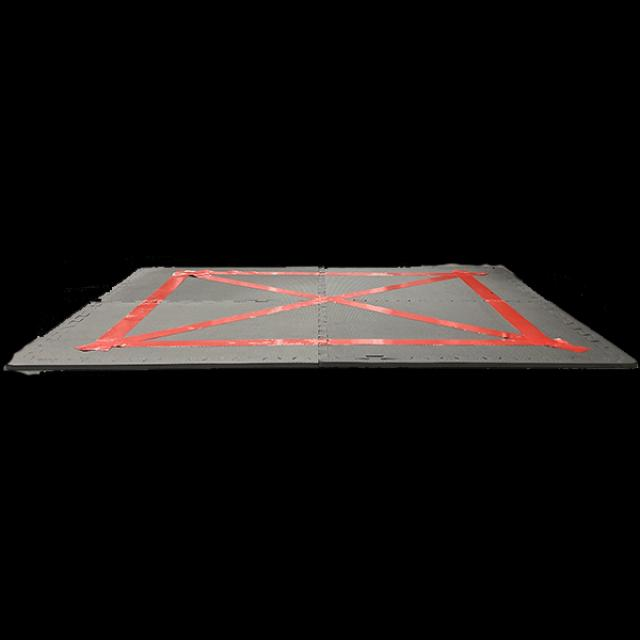landingPads: (8, 263, 640, 371)
